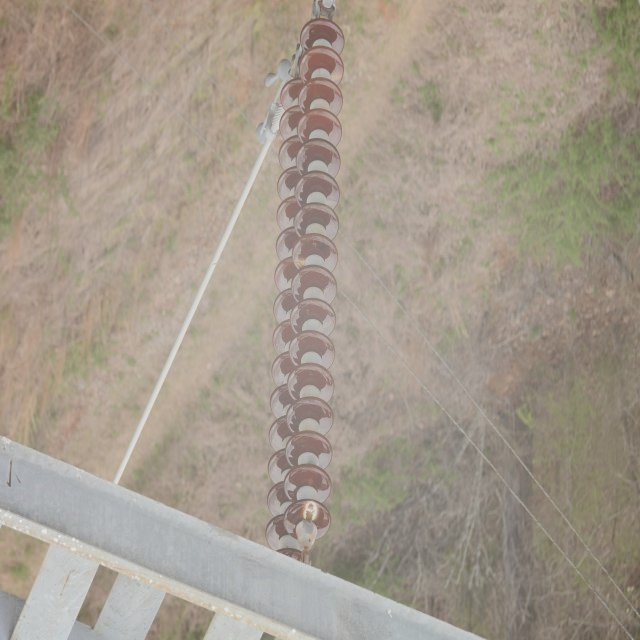insulator: (262, 19, 348, 550)
